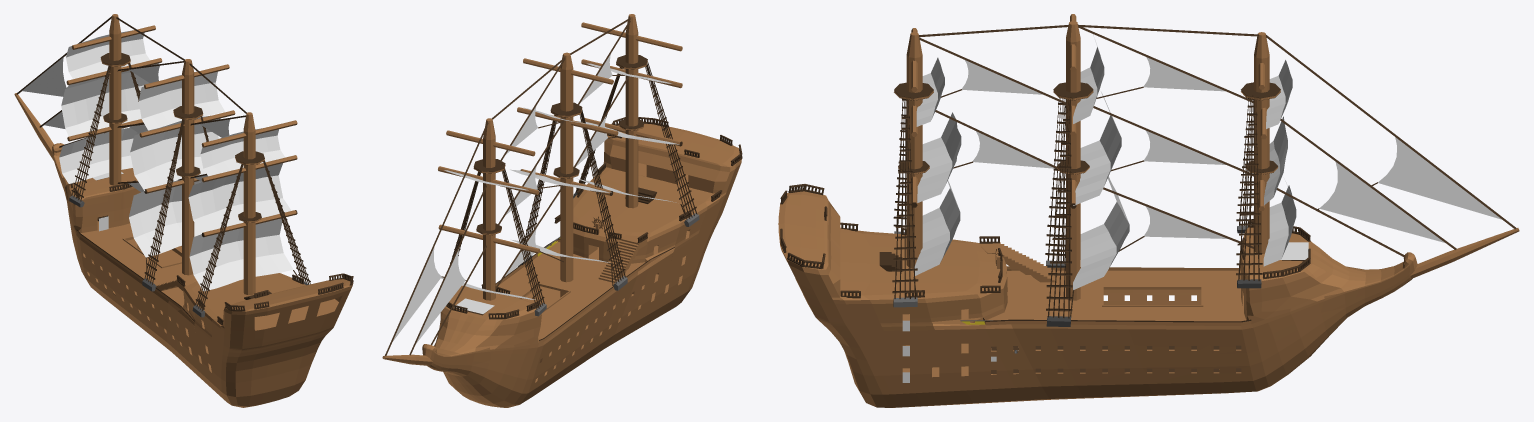
The model's file is ship_top_t2.glb.
3 renders of one model, left to right at view 1: azimuth 30°, elevation 25°; view 2: azimuth 150°, elevation 25°; view 3: azimuth 270°, elevation 25°, orthographic. The views are drawn at different scales.
Visible parts, largest first — view 1: outer detail, Circle.009, Circle.005, Circle.001, Circle.008, Circle.004, Circle.003, 0F, Circle.007, sails 1.001, sails 1, sails 2 (+20 smaller); view 2: outer detail, 0F, sails 1.001, sails 1, sails 2, Cylinder.016, Cylinder.011, Cylinder.014, triangle sail.001, Cube.001, triangle sail, Cylinder.015 (+19 smaller); view 3: outer detail, 0F, triangle sail.001, triangle sail, sails 1.001, sails 1, Circle.008, sails 2, Cylinder.015, Circle.004, Cylinder.013, Circle.009 (+18 smaller).
Boxes of the visible parts, x1=… form: outer detail: x1=52, y1=143, x2=353, y2=407; Circle.009: x1=189, y1=218, x2=293, y2=291; Circle.005: x1=188, y1=163, x2=291, y2=232; Circle.001: x1=61, y1=63, x2=159, y2=136; Circle.008: x1=129, y1=180, x2=201, y2=257; Circle.004: x1=130, y1=115, x2=220, y2=190; Circle.003: x1=139, y1=71, x2=225, y2=130; 0F: x1=80, y1=221, x2=204, y2=329; Circle.007: x1=59, y1=127, x2=138, y2=183; sails 1.001: x1=182, y1=59, x2=194, y2=275; sails 1: x1=243, y1=112, x2=255, y2=294; sails 2: x1=109, y1=14, x2=121, y2=185; outer detail: x1=422, y1=123, x2=741, y2=407; 0F: x1=498, y1=231, x2=689, y2=342; sails 1.001: x1=560, y1=52, x2=573, y2=297; sails 1: x1=625, y1=14, x2=638, y2=208; sails 2: x1=483, y1=118, x2=495, y2=300; Cylinder.016: x1=579, y1=110, x2=627, y2=290; Cylinder.011: x1=645, y1=62, x2=699, y2=226; Cylinder.014: x1=502, y1=164, x2=546, y2=316; triangle sail.001: x1=416, y1=249, x2=465, y2=343; Cube.001: x1=598, y1=235, x2=647, y2=282; triangle sail: x1=392, y1=247, x2=441, y2=341; Cylinder.015: x1=518, y1=115, x2=556, y2=266; outer detail: x1=778, y1=191, x2=1417, y2=407; 0F: x1=902, y1=270, x2=1246, y2=325; triangle sail.001: x1=1319, y1=162, x2=1444, y2=242; triangle sail: x1=1378, y1=137, x2=1501, y2=219; sails 1.001: x1=1066, y1=21, x2=1080, y2=300; sails 1: x1=906, y1=32, x2=922, y2=268; Circle.008: x1=1073, y1=176, x2=1129, y2=289; sails 2: x1=1254, y1=32, x2=1269, y2=253; Cylinder.015: x1=1046, y1=99, x2=1072, y2=326; Circle.004: x1=1073, y1=92, x2=1121, y2=205; Cylinder.013: x1=892, y1=99, x2=918, y2=307; Circle.009: x1=914, y1=180, x2=960, y2=275.
Size of what is drawn, in the model's own units: 50.07 by 113 by 205.
